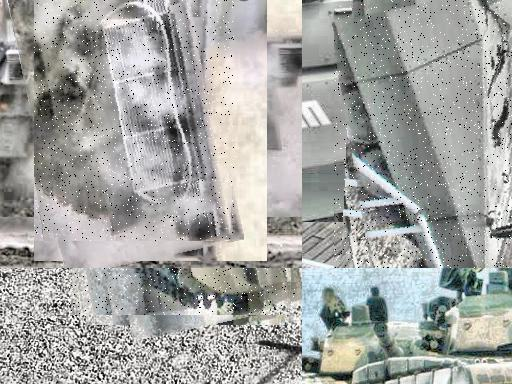tanks: (36, 1, 235, 242), (335, 1, 512, 269), (351, 269, 512, 384), (303, 291, 387, 384), (386, 323, 419, 355)
